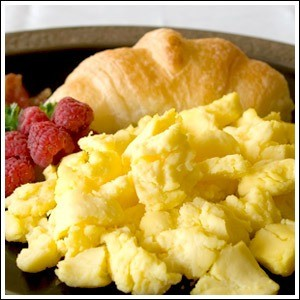egg_brain food: (67, 126, 282, 250)
